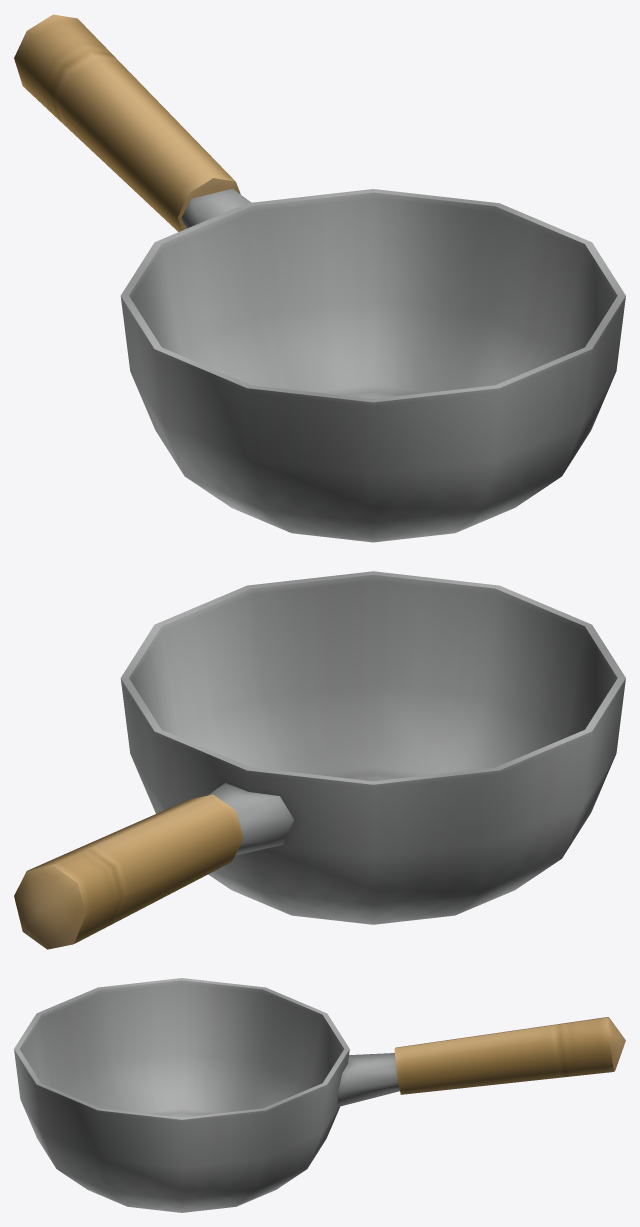
File: jsf_Pot_03a.fbx
3 renders of one model, top to bottom at view 1: azimuth 30°, elevation 25°; view 2: azimuth 150°, elevation 25°; view 3: azimuth 270°, elevation 25°, orthographic. The views are drawn at different scales.
Parts seen in each view (by area): view 1: jsf_Pot_03a; view 2: jsf_Pot_03a; view 3: jsf_Pot_03a.
Part boxes in pixels (x1,y1,x2,y2): jsf_Pot_03a: (14,14,625,542); jsf_Pot_03a: (14,571,625,949); jsf_Pot_03a: (14,978,625,1212).
Size of the model in its own units: 19.1 by 9.36 by 34.8.
